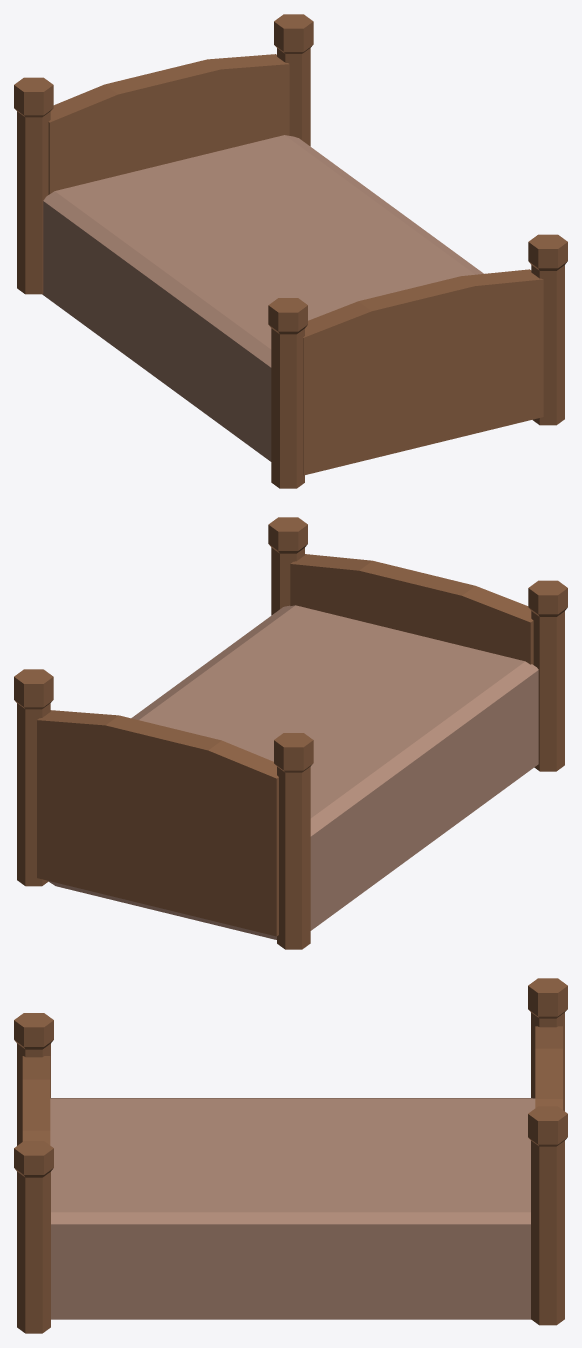
Rendered from bed.fbx.
3 renders of one model, top to bottom at view 1: azimuth 30°, elevation 25°; view 2: azimuth 150°, elevation 25°; view 3: azimuth 270°, elevation 25°, orthographic.
Parts seen in each view (by area): view 1: bed; view 2: bed; view 3: bed.
Boxes of the visible parts, x1,y1,x2,y2 form: bed: (14, 14, 567, 488); bed: (14, 517, 567, 949); bed: (14, 978, 567, 1333).
Size of the model in its own units: 145 by 101 by 237.
